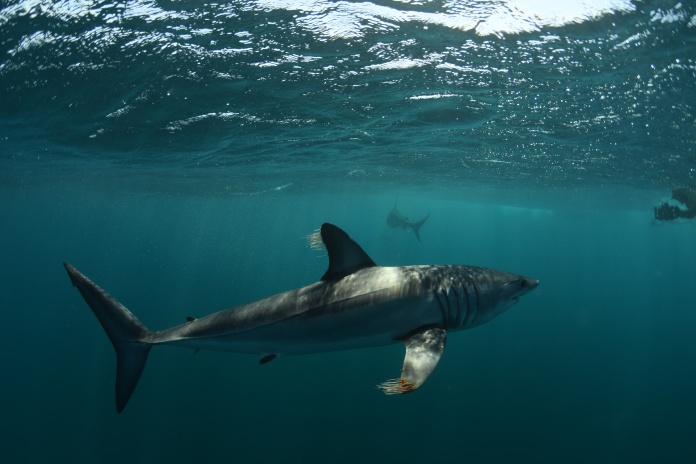Mako: (63, 212, 549, 422)
